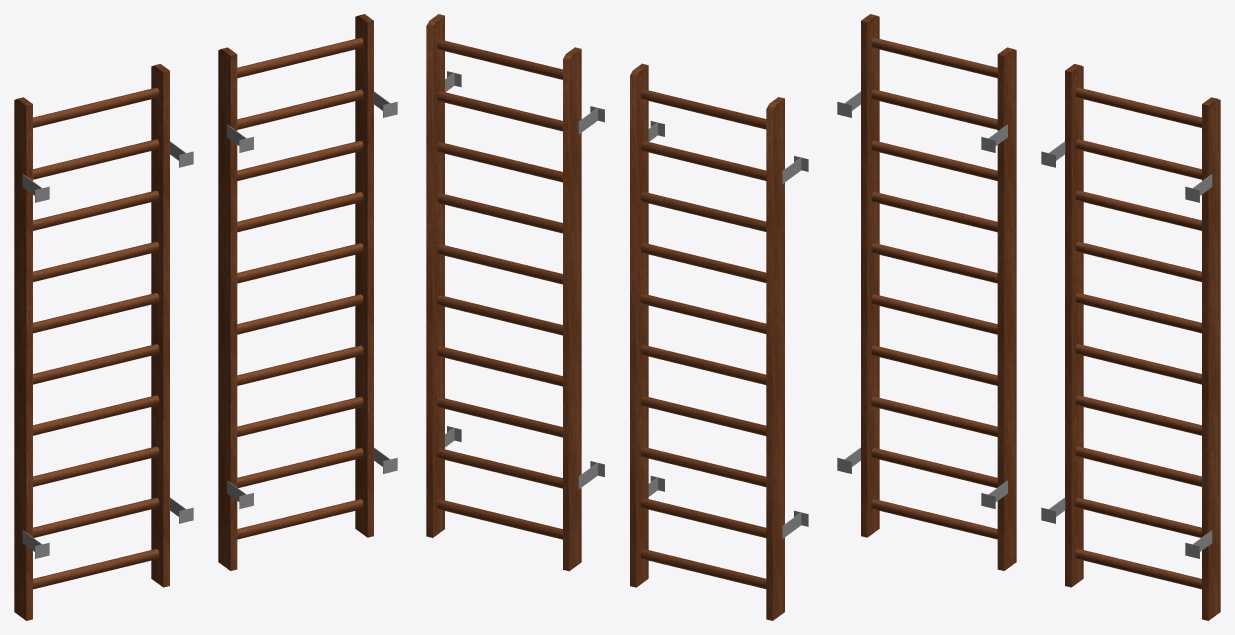
Rendered from SportLadder01a.FBX.
3 views of the same model, side by side, from view 1: azimuth 30°, elevation 25°; view 2: azimuth 150°, elevation 25°; view 3: azimuth 330°, elevation 25° (orthographic).
Parts seen in each view (by area): view 1: ShvStenka1; view 2: ShvStenka1; view 3: ShvStenka1.
Part boxes in pixels (bbox=[...]): ShvStenka1: bbox=[14, 14, 397, 620]; ShvStenka1: bbox=[426, 14, 808, 620]; ShvStenka1: bbox=[837, 14, 1220, 620].
Size of the model in its own units: 87.51 by 119 by 11.89.
